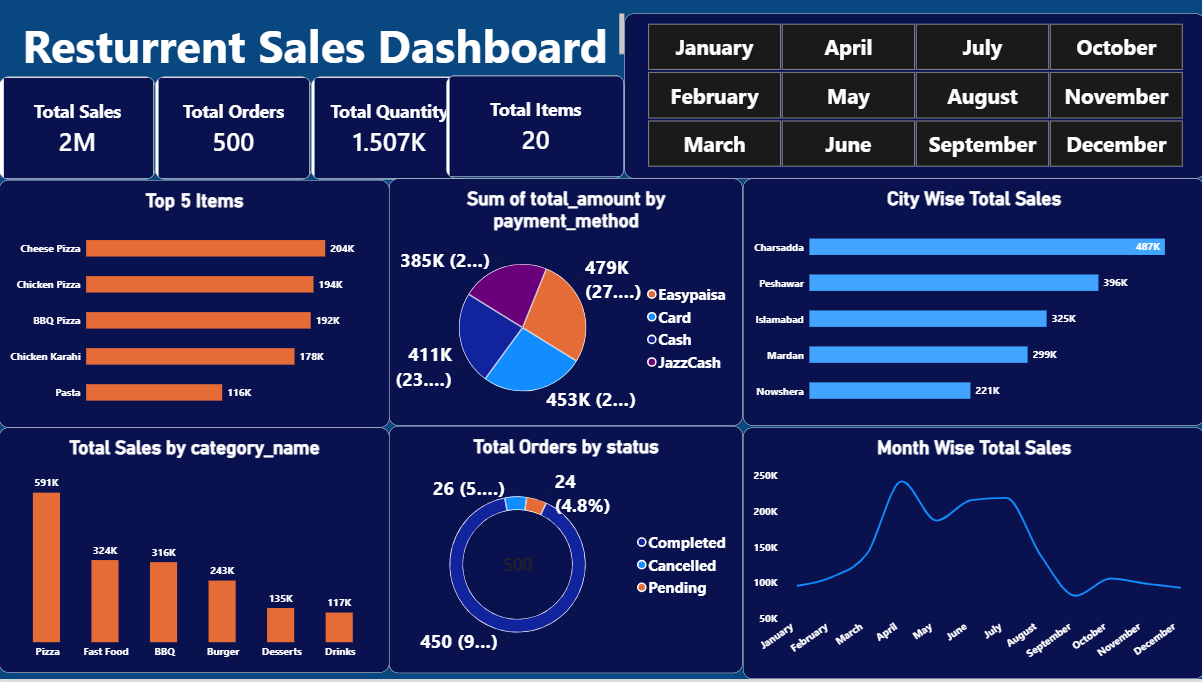

This screenshot's page, from the dashboard's own definition file:
{"tool":"powerbi","page":{"name":"Dashboard","canvas":[1920,1080],"ordinal":0},"visuals":[{"type":"cardVisual","fields":{"Data":["Sum(Orders.total_amount)"]},"box":[0,121.9,248.5,164.1],"z":0},{"type":"cardVisual","fields":{"Data":["CountNonNull(Orders.order_id)"]},"box":[248.5,121.9,248.5,164.1],"z":1000},{"type":"cardVisual","fields":{"Data":["CountNonNull(Order_Items.quantity)"]},"box":[497,121.9,248.5,164.1],"z":2000},{"type":"cardVisual","fields":{"Data":["CountNonNull(Menu_Items.item_name)"]},"box":[711.4,119.4,284.1,164.7],"z":3000},{"type":"clusteredBarChart","title":"Top 5 Items","fields":{"Category":["Menu_Items.item_name"],"Y":["Sum(Order_Items.SALES)"]},"box":[0,286,621.3,393.9],"z":4000},{"type":"columnChart","fields":{"Category":["Catagory.category_name"],"Y":["Sum(Order_Items.SALES)"]},"box":[0,680.4,621,390],"z":5000},{"type":"donutChart","fields":{"Category":["Orders.status"],"Y":["CountNonNull(Orders.order_id)"]},"box":[621.7,678.2,562.8,393.3],"z":6000},{"type":"pieChart","fields":{"Category":["Orders.payment_method"],"Y":["Sum(Orders.total_amount)"]},"box":[621.7,284.9,562.8,393.3],"z":7000},{"type":"lineChart","title":"Month Wise Total Sales","fields":{"Category":["Orders.order_date.Variation.Date Hierarchy.Month"],"Y":["Sum(Orders.total_amount)"]},"box":[1184.5,680.6,734.7,400.3],"z":8000},{"type":"clusteredBarChart","title":" City Wise Total Sales ","fields":{"Category":["Customers.city"],"Y":["Sum(Orders.total_amount)"]},"box":[1184.5,284.9,734.7,393.3],"z":9000},{"type":"slicer","fields":{"Values":["Orders.order_date.Variation.Date Hierarchy.Month"]},"box":[995.4,21.5,923.8,262.6],"z":10000},{"type":"textbox","box":[100,100,300,300],"z":11000},{"type":"textbox","box":[100,100,300,300],"z":12000},{"type":"textbox","box":[19.1,21.5,976.3,78.8],"z":13000}]}

Visuals, with their boxes in screenshot pixels (x1, y1, x2, y2), scaled from the page's 1920x1080 canvas onto the 1202x682 screenshot:
cardVisual - Sum(Orders.total_amount): (0, 77, 156, 181)
cardVisual - CountNonNull(Orders.order_id): (156, 77, 311, 181)
cardVisual - CountNonNull(Order_Items.quantity): (311, 77, 467, 181)
cardVisual - CountNonNull(Menu_Items.item_name): (445, 75, 623, 179)
"Top 5 Items" clusteredBarChart: (0, 181, 389, 429)
columnChart - Catagory.category_name x Sum(Order_Items.SALES): (0, 430, 389, 676)
donutChart - Orders.status x CountNonNull(Orders.order_id): (389, 428, 742, 677)
pieChart - Orders.payment_method x Sum(Orders.total_amount): (389, 180, 742, 428)
"Month Wise Total Sales" lineChart: (742, 430, 1201, 681)
" City Wise Total Sales " clusteredBarChart: (742, 180, 1201, 428)
slicer - Orders.order_date.Variation.Date Hierarchy.Month: (623, 14, 1201, 179)
textbox: (63, 63, 250, 253)
textbox: (63, 63, 250, 253)
textbox: (12, 14, 623, 63)
